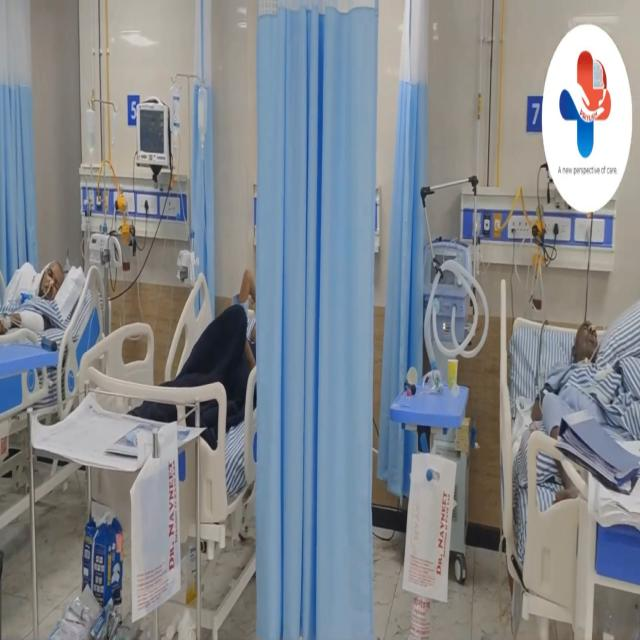Patient: (546, 296, 629, 427), (2, 243, 82, 373), (200, 246, 260, 418)
